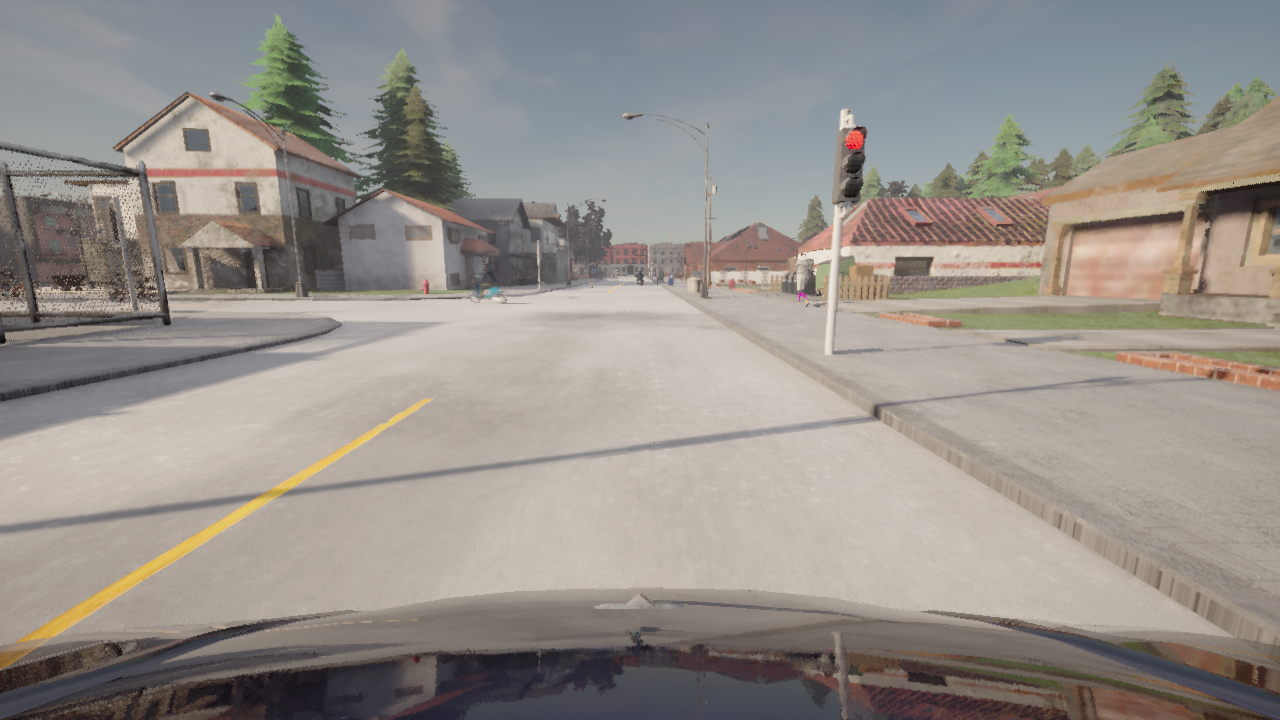cyclist: (0, 588, 1279, 719), (105, 273, 158, 302), (470, 275, 508, 304), (638, 279, 641, 284)
pedestrian: (789, 252, 813, 307), (589, 277, 594, 295)
